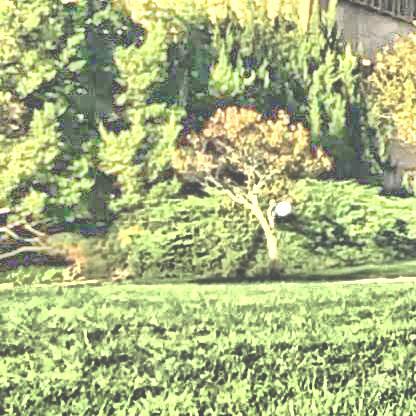golfball: (272, 197, 289, 216)
